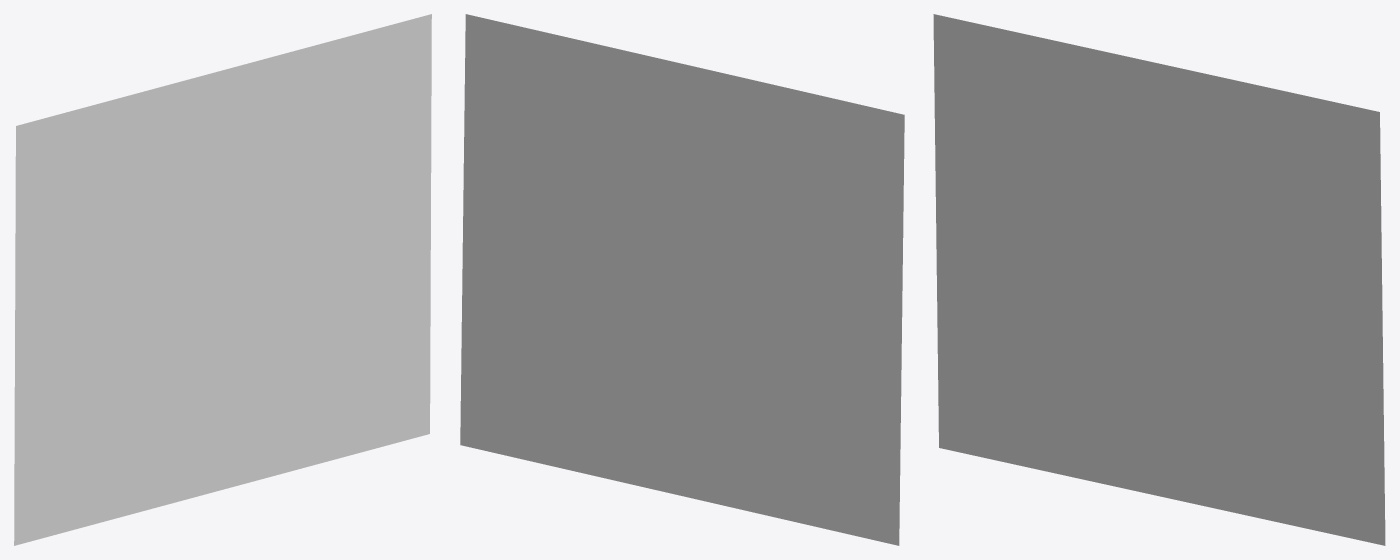
File: primary_149.glb
3 renders of one model, left to right at view 1: azimuth 30°, elevation 25°; view 2: azimuth 150°, elevation 25°; view 3: azimuth 330°, elevation 25°, orthographic. The views are drawn at different scales.
Parts seen in each view (by area): view 1: Object; view 2: Object; view 3: Object.
Part boxes in pixels (<box>): Object: <box>14,14,431,545</box>; Object: <box>460,14,904,545</box>; Object: <box>933,14,1385,545</box>.
Bounding box in the file's own units: 0.4805 × 0.4581 × 0.0237.
Materials: 1 (1 with a texture image).
